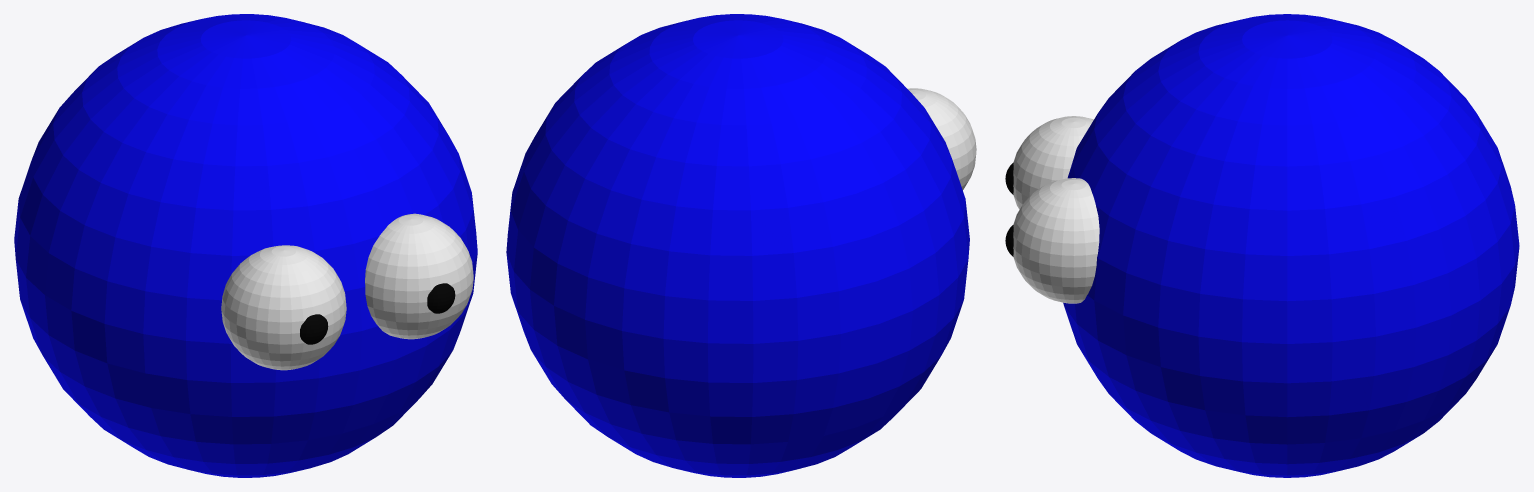
File: dot.glb
3 renders of one model, left to right at view 1: azimuth 30°, elevation 25°; view 2: azimuth 150°, elevation 25°; view 3: azimuth 270°, elevation 25°, orthographic.
Parts seen in each view (by area): view 1: Object_2, Object_3, Object_4; view 2: Object_2, Object_3; view 3: Object_2, Object_3.
Part boxes in pixels (<box>): Object_2: <box>14,14,477,477</box>; Object_3: <box>221,213,473,370</box>; Object_4: <box>300,283,455,344</box>; Object_2: <box>506,14,969,477</box>; Object_3: <box>907,88,976,190</box>; Object_2: <box>1063,14,1519,477</box>; Object_3: <box>1013,116,1099,303</box>.
Size of the model in its own units: 4.55 by 4.55 by 5.04.
